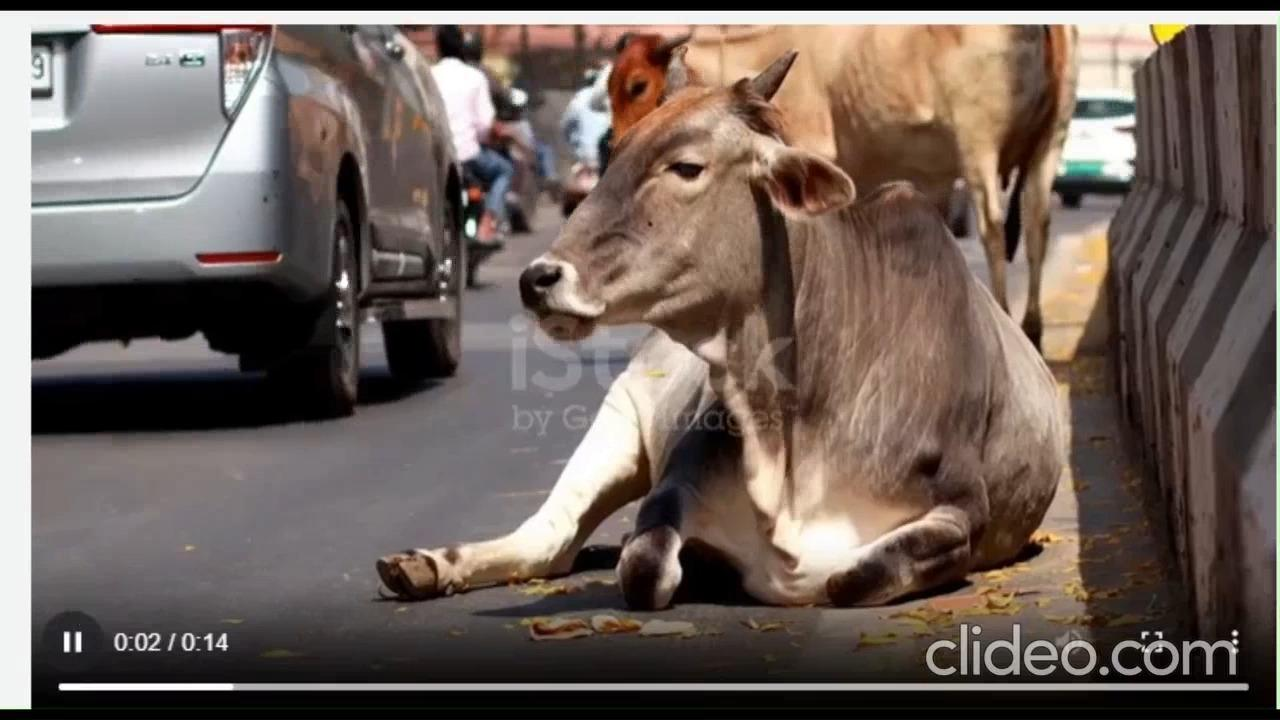Cow: (374, 52, 1068, 603), (603, 31, 1086, 354)
